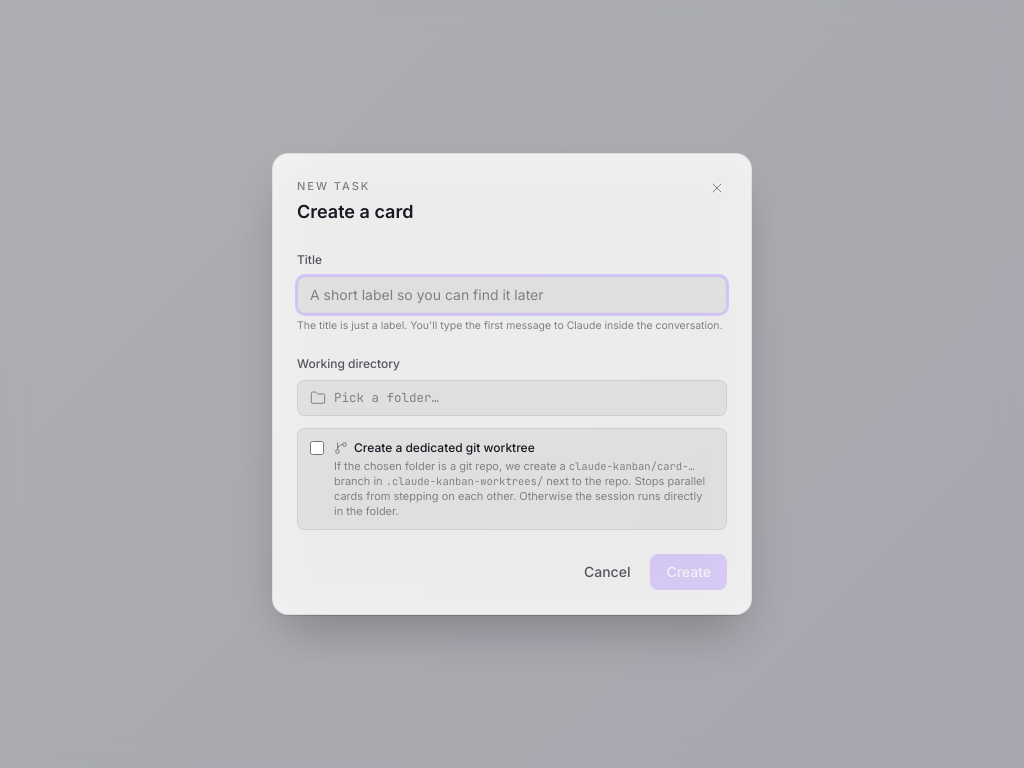
Test case: <CreateCardModal /> › create() failure surfaces inline and re-enables the Create button
Type "T" into the field with placeholder "A short label so you can find it later".
click(512, 295); type("T")  # box [297, 276, 727, 314]
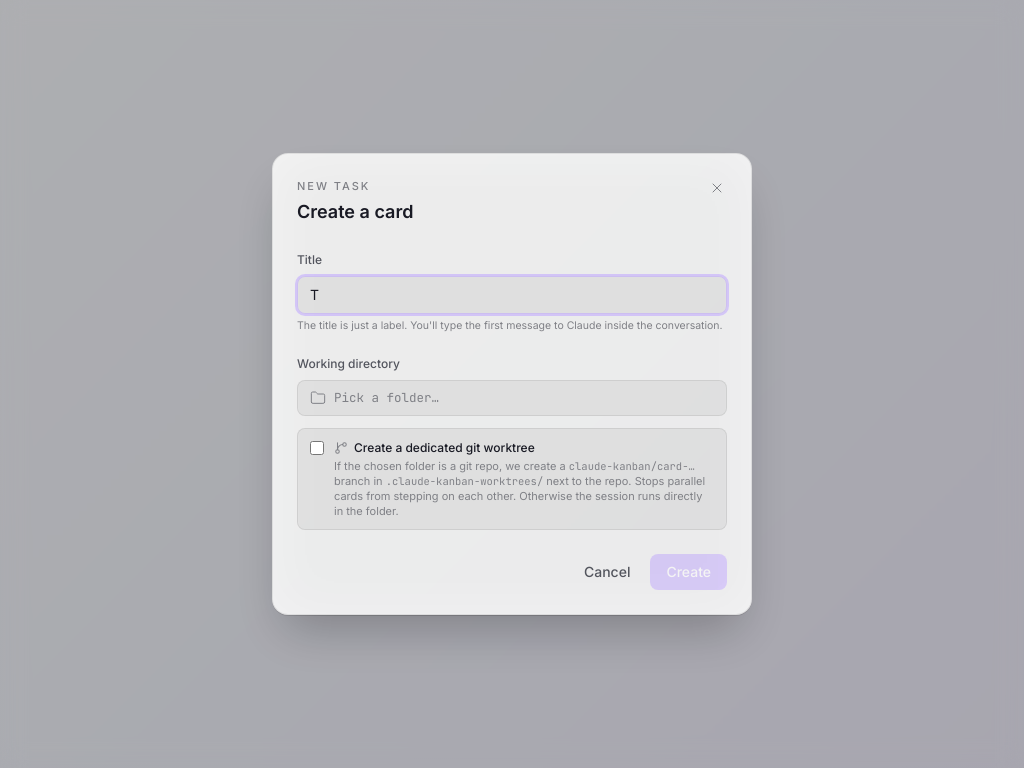
Click the button "Pick a folder…".
click(387, 397)  # box [297, 380, 727, 416]
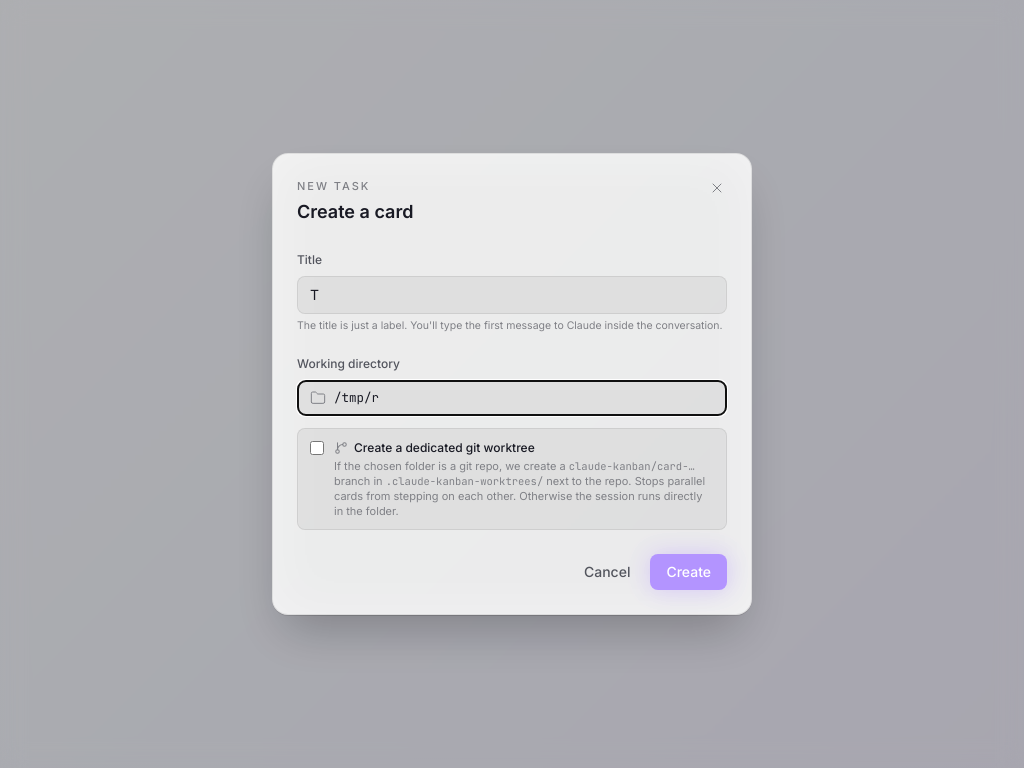
Click the button "Create".
click(689, 572)  # box [650, 554, 727, 590]
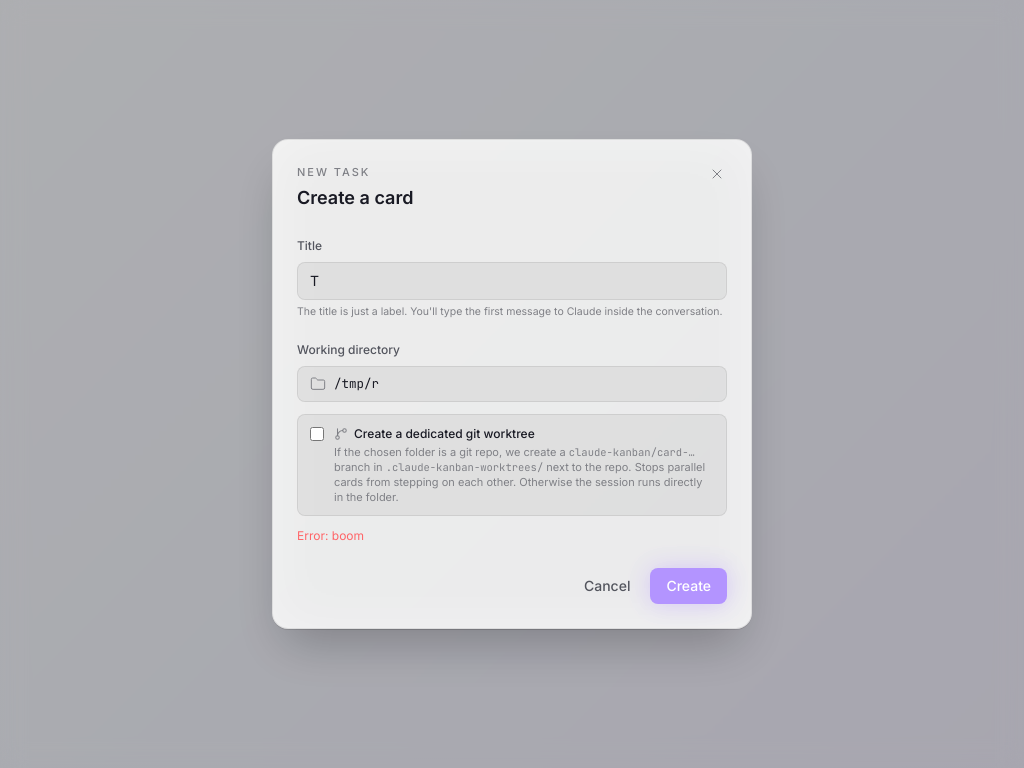
Now the button "Create" is enabled, box [650, 568, 727, 604]
Now the text "Error: boom" is shown, box [297, 528, 364, 543]
